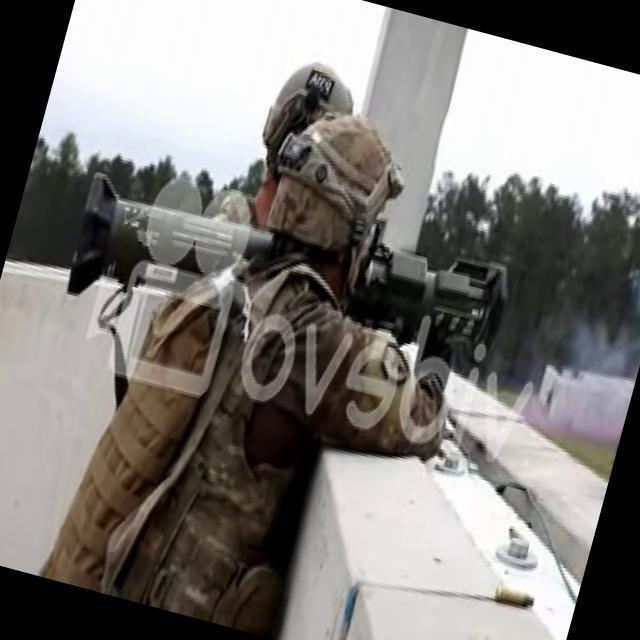rocket: (61, 159, 514, 400)
